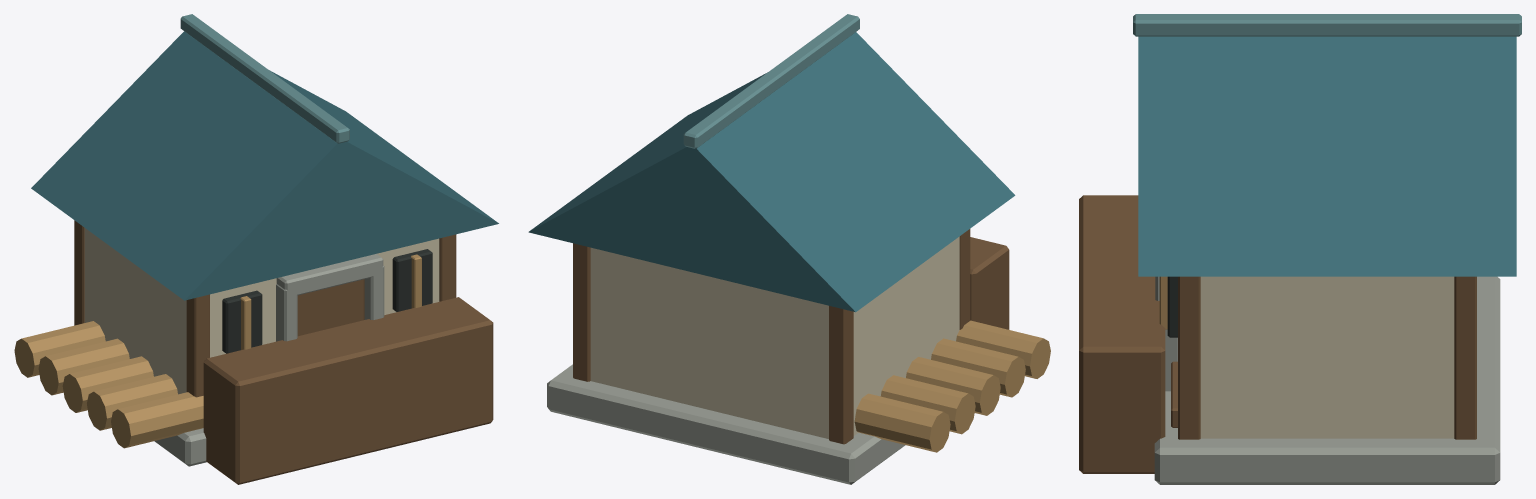
The model's file is lumber.glb.
The picture shows the model from 3 angles, left to right: view 1: azimuth 30°, elevation 25°; view 2: azimuth 150°, elevation 25°; view 3: azimuth 270°, elevation 25°; orthographic projection. The views are drawn at different scales.
Visible parts, largest first — view 1: Solid gabled roof.003, Saw bench, Plaster walls.003, Ridge cap.003, Lumber stacked end, Door.003, Lumber stacked end.004, Lumber stacked end.002, Lumber stacked end.003, Lumber stacked end.001, Lintel.003, Corner timber.012 (+9 smaller); view 2: Solid gabled roof.003, Plaster walls.003, Foundation.003, Ridge cap.003, Lumber stacked end.004, Saw bench, Corner timber.013, Lumber stacked end.003, Lumber stacked end.001, Lumber stacked end.002, Lumber stacked end, Corner timber.015 (+1 smaller); view 3: Solid gabled roof.003, Plaster walls.003, Saw bench, Foundation.003, Ridge cap.003, Corner timber.014, Corner timber.015, Window dark recess.007, Door post.007.
Part boxes in pixels (box(x1,y1,x2,y2)): Solid gabled roof.003: box(31, 31, 498, 300); Saw bench: box(203, 297, 493, 484); Plaster walls.003: box(84, 228, 439, 394); Ridge cap.003: box(180, 14, 349, 143); Lumber stacked end: box(111, 392, 203, 448); Door.003: box(297, 279, 364, 336); Lumber stacked end.004: box(14, 321, 105, 377); Lumber stacked end.002: box(62, 356, 153, 412); Lumber stacked end.003: box(38, 338, 129, 395); Lumber stacked end.001: box(87, 374, 177, 430); Lintel.003: box(276, 254, 383, 296); Corner timber.012: box(186, 294, 209, 397); Solid gabled roof.003: box(528, 32, 1015, 312); Plaster walls.003: box(590, 236, 959, 438); Foundation.003: box(547, 364, 905, 484); Ridge cap.003: box(683, 14, 859, 148); Lumber stacked end.004: box(854, 393, 950, 452); Saw bench: box(970, 237, 1009, 329); Corner timber.013: box(829, 306, 853, 444); Lumber stacked end.003: box(880, 375, 975, 434); Lumber stacked end.001: box(931, 338, 1025, 397); Lumber stacked end.002: box(906, 357, 1000, 415); Lumber stacked end: box(956, 320, 1050, 378); Corner timber.015: box(573, 243, 590, 381); Solid gabled roof.003: box(1138, 36, 1516, 276); Plaster walls.003: box(1200, 276, 1454, 438); Saw bench: box(1079, 195, 1165, 473); Foundation.003: box(1154, 276, 1500, 484); Ridge cap.003: box(1133, 14, 1521, 36); Corner timber.014: box(1178, 276, 1200, 439); Corner timber.015: box(1454, 276, 1476, 439); Window dark recess.007: box(1167, 276, 1177, 337); Door post.007: box(1155, 276, 1177, 391).
Bounding box in the file's own units: 4.73 × 3.89 × 4.1.
